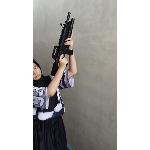Senapan: (50, 9, 80, 80)
